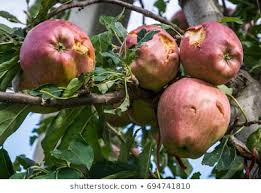damaged_apple: (162, 81, 234, 153), (19, 24, 99, 86), (179, 19, 248, 83), (121, 24, 181, 89)
